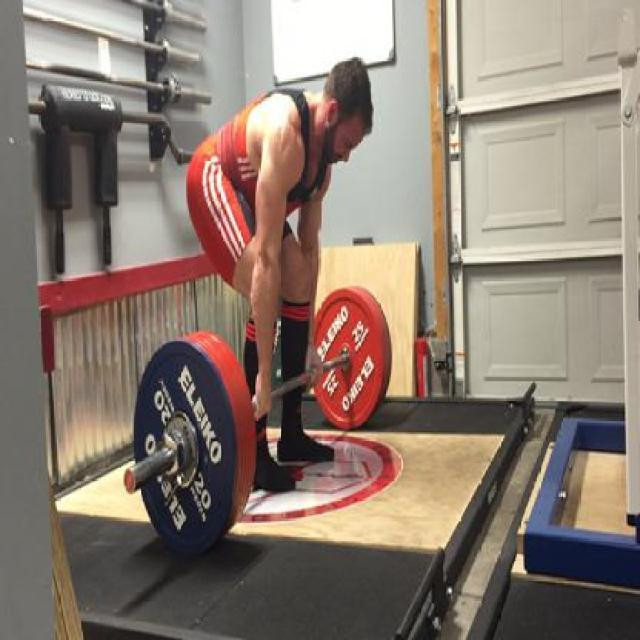barbell: (128, 326, 246, 568)
